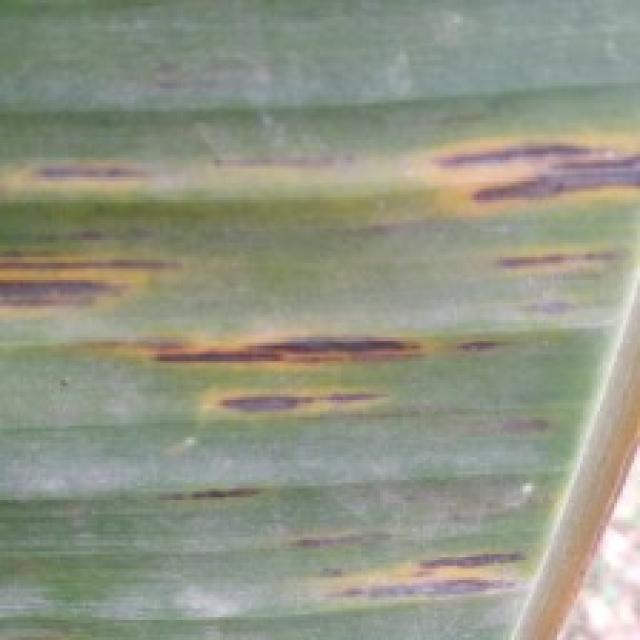Early_leaf_spot: (408, 94, 640, 230), (257, 524, 536, 617), (133, 294, 423, 380), (149, 354, 421, 431), (0, 214, 177, 314), (0, 131, 163, 200), (471, 225, 640, 288), (448, 405, 586, 455), (448, 308, 524, 372)
